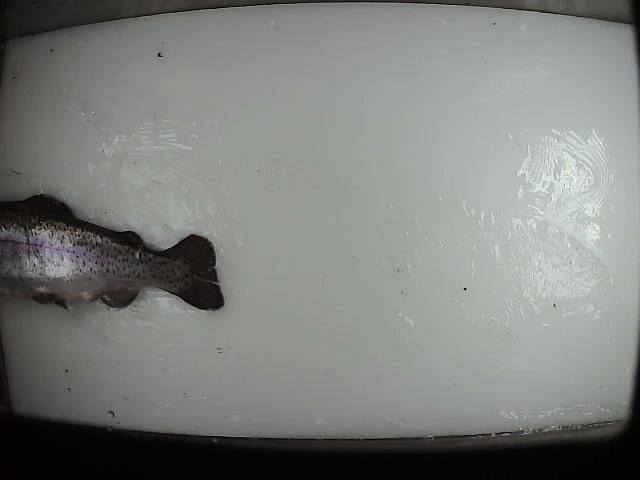fish: (1, 191, 226, 314)
